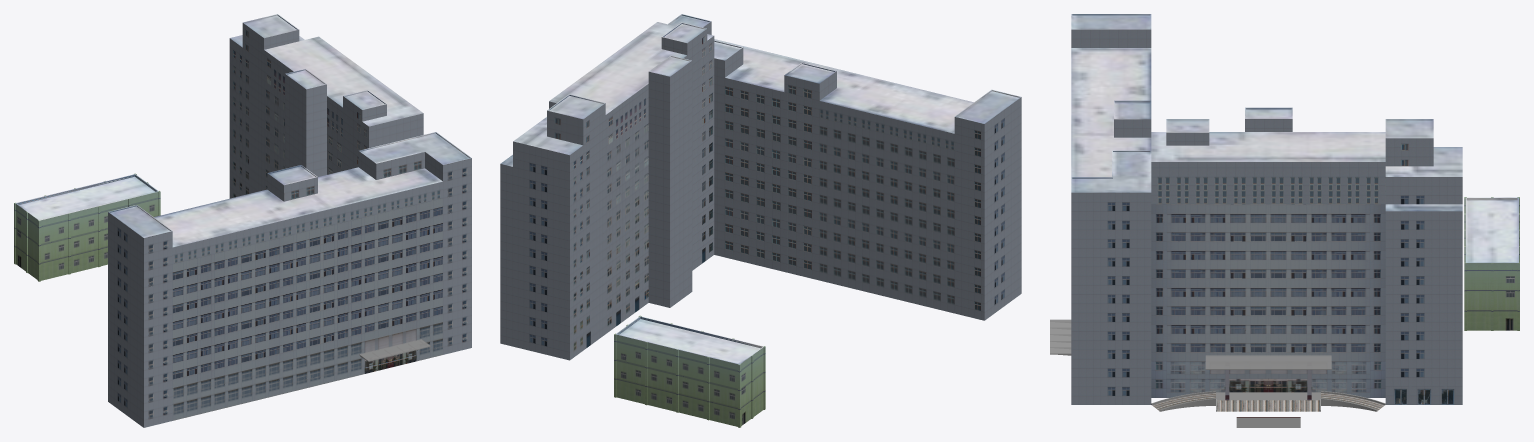
Rendered from side building16.FBX.
The picture shows the model from 3 angles, left to right: view 1: azimuth 30°, elevation 25°; view 2: azimuth 150°, elevation 25°; view 3: azimuth 270°, elevation 25°; orthographic projection. The views are drawn at different scales.
Parts seen in each view (by area): view 1: 陕西省食品药品监督管理局; view 2: 陕西省食品药品监督管理局; view 3: 陕西省食品药品监督管理局.
Boxes of the visible parts, box(x1,y1,x2,y2) form: 陕西省食品药品监督管理局: box(14, 14, 471, 427); 陕西省食品药品监督管理局: box(500, 14, 1021, 427); 陕西省食品药品监督管理局: box(1050, 14, 1519, 427).
Bounding box in the file's own units: 89.59 × 88.1 × 51.57.
